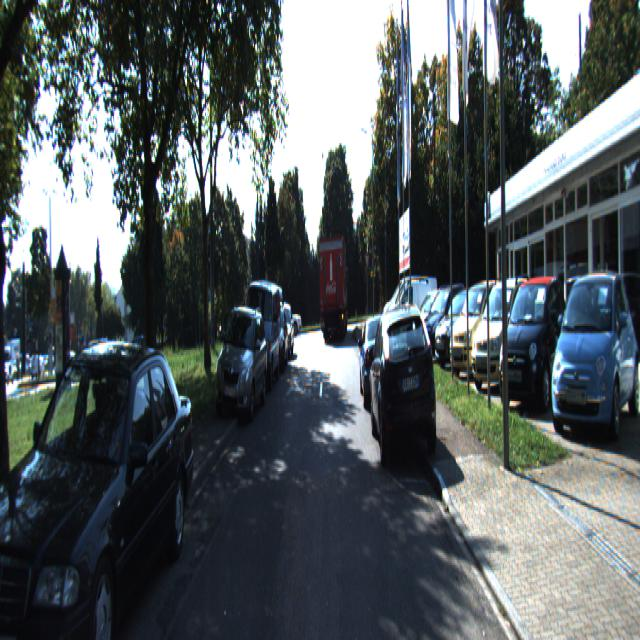Car: (0, 329, 196, 639), (548, 266, 640, 444), (369, 296, 439, 470), (497, 269, 573, 414), (469, 275, 541, 391), (447, 275, 515, 379), (212, 302, 268, 427), (432, 288, 498, 372), (241, 278, 283, 394), (358, 310, 399, 409), (318, 234, 349, 341), (386, 276, 433, 344), (272, 302, 294, 364), (271, 300, 304, 340)
